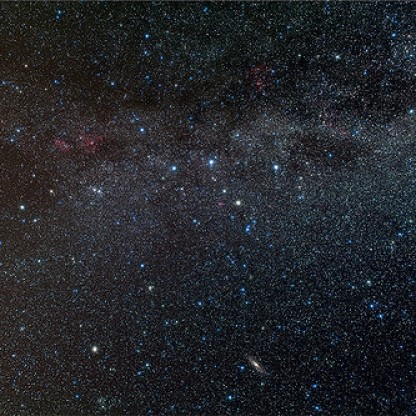Cassiopeia: (217, 184, 246, 209), (197, 147, 222, 173), (160, 156, 182, 181), (264, 156, 285, 176), (133, 117, 150, 138)
